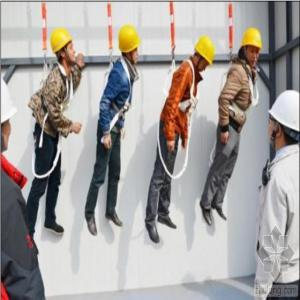white: (267, 90, 300, 155), (2, 79, 17, 157)
yellow: (49, 24, 76, 70), (117, 26, 141, 69), (240, 26, 263, 70), (193, 37, 215, 76)
